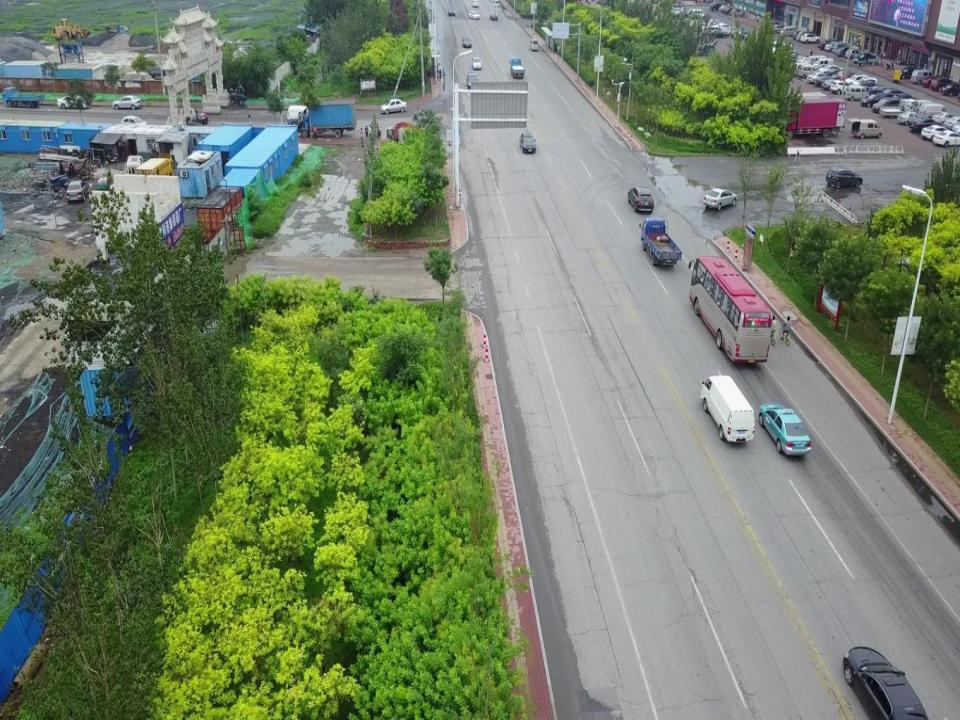bus: (690, 254, 770, 369)
car: (845, 643, 927, 720), (761, 402, 810, 458), (824, 168, 862, 192), (702, 187, 737, 208), (628, 184, 654, 212), (57, 92, 91, 109), (178, 105, 207, 124), (66, 181, 91, 201), (111, 94, 142, 109), (909, 118, 942, 132), (896, 111, 929, 125), (920, 127, 953, 140), (933, 131, 960, 146), (910, 70, 938, 84), (860, 93, 889, 106), (872, 98, 901, 111), (380, 100, 406, 114), (520, 133, 536, 155), (922, 74, 950, 86), (876, 87, 904, 98), (888, 93, 916, 104), (898, 67, 926, 78), (798, 63, 818, 77), (850, 81, 878, 91), (830, 81, 853, 93), (868, 85, 895, 95), (808, 72, 830, 84), (852, 53, 878, 63), (819, 64, 844, 74), (822, 79, 845, 89), (941, 83, 960, 95), (815, 75, 835, 86), (466, 72, 478, 90), (825, 41, 849, 50), (836, 48, 856, 58), (801, 33, 820, 43), (845, 50, 864, 60), (846, 74, 866, 83), (838, 72, 858, 81), (768, 24, 788, 33), (820, 40, 840, 48), (472, 56, 482, 70), (463, 38, 471, 50), (469, 9, 479, 18), (447, 8, 454, 16), (474, 2, 479, 7)
truck: (768, 98, 846, 139), (295, 106, 356, 136), (2, 84, 45, 108), (489, 4, 500, 20)
van: (702, 374, 754, 443), (848, 118, 882, 138), (845, 84, 869, 99), (804, 56, 826, 67), (834, 42, 853, 54), (813, 59, 834, 69), (797, 32, 815, 41), (791, 31, 809, 40), (781, 27, 797, 37), (530, 40, 538, 52)
